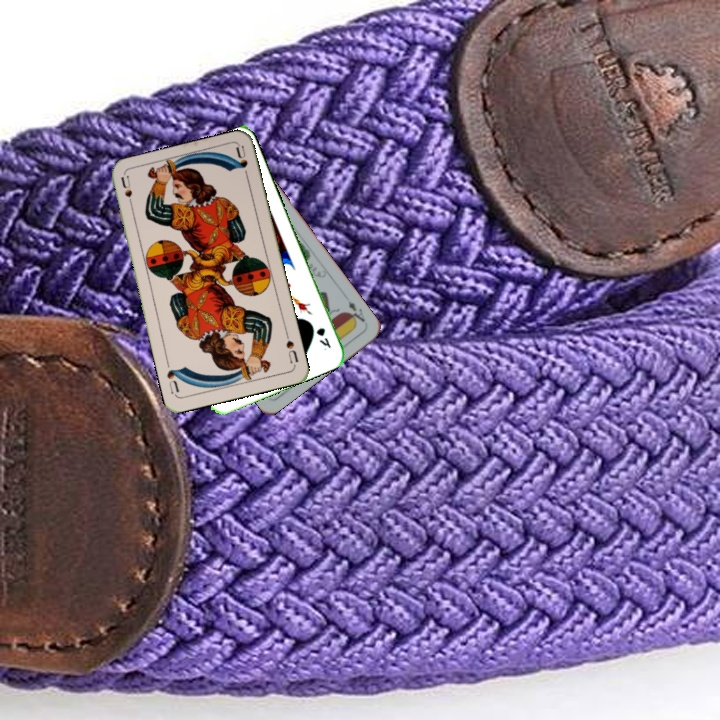EA: (343, 297, 368, 328)
GK: (312, 323, 334, 350)
SU: (281, 327, 301, 368), (116, 172, 136, 213)
